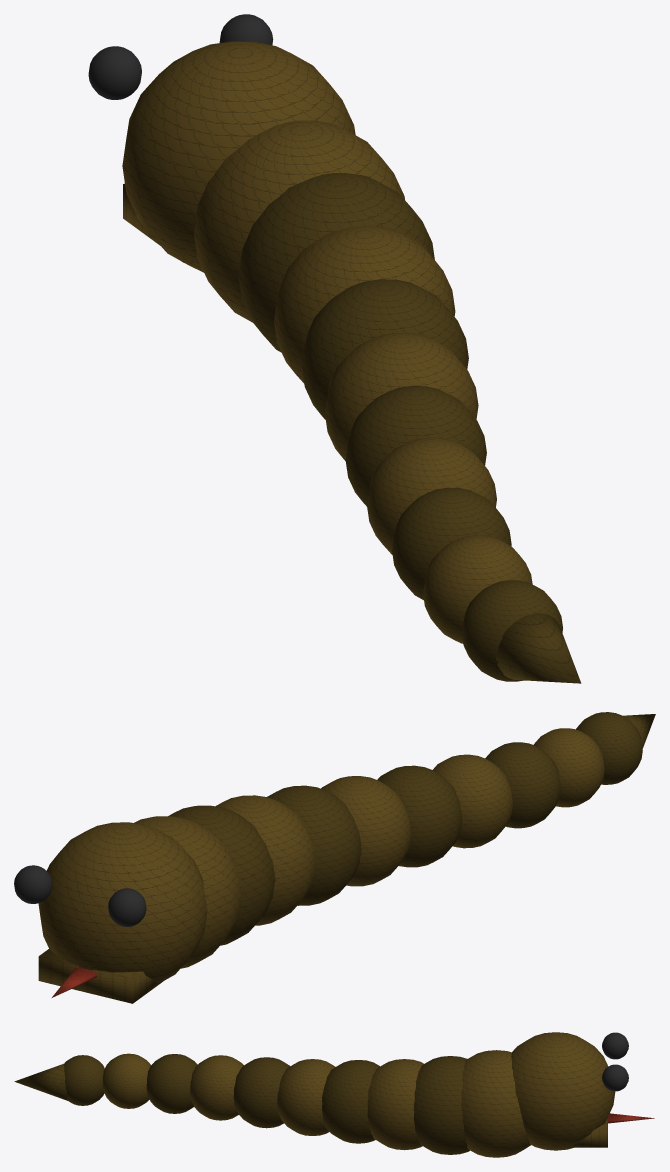
Rendered from worm-serpent-proof.glb.
3 renders of one model, top to bottom at view 1: azimuth 30°, elevation 25°; view 2: azimuth 150°, elevation 25°; view 3: azimuth 270°, elevation 25°, orthographic. The views are drawn at different scales.
Parts seen in each view (by area): view 1: Head, Segment, Segment.001, Segment.002, Segment.003, Segment.004, Segment.005, Segment.006, Segment.007, Segment.008, Segment.009, Tail (+2 smaller); view 2: Head, Segment.003, Segment.004, Segment.002, Segment, Segment.005, Segment.001, Segment.006, Segment.007, Segment.008, Segment.009, Jaw (+4 smaller); view 3: Head, Segment, Segment.001, Segment.002, Segment.003, Segment.004, Segment.005, Segment.006, Segment.007, Segment.008, Segment.009, Tail (+4 smaller).
Part boxes in pixels (x1,y1,x2,y2): Head: (122,41,355,272); Segment: (194,120,404,322); Segment.001: (238,173,434,352); Segment.002: (274,226,455,383); Segment.003: (302,279,468,419); Segment.004: (325,333,478,460); Segment.005: (345,386,486,506); Segment.006: (367,437,496,554); Segment.007: (392,487,511,600); Segment.008: (423,535,532,643); Segment.009: (462,580,562,681); Tail: (496,613,581,683); Head: (38,822,207,982); Segment.003: (267,785,361,905); Segment.004: (321,776,411,886); Segment.002: (216,795,314,925); Segment: (134,816,241,968); Segment.005: (377,765,462,867); Segment.001: (169,805,275,945); Segment.006: (433,754,512,848); Segment.007: (485,742,560,828); Segment.008: (533,728,604,807); Segment.009: (576,712,642,784); Jaw: (38,949,165,1003); Head: (511,1032,615,1150); Segment: (461,1050,530,1157); Segment.001: (413,1056,469,1154); Segment.002: (367,1059,423,1150); Segment.003: (322,1060,379,1143); Segment.004: (277,1059,335,1135); Segment.005: (233,1057,290,1128); Segment.006: (190,1055,243,1120); Segment.007: (146,1054,197,1113); Segment.008: (102,1053,151,1108); Segment.009: (64,1055,104,1105); Tail: (14,1063,81,1105).
Bounding box in the file's own units: 0.7433 × 0.47 × 2.38.
5 materials, 4 textured.
